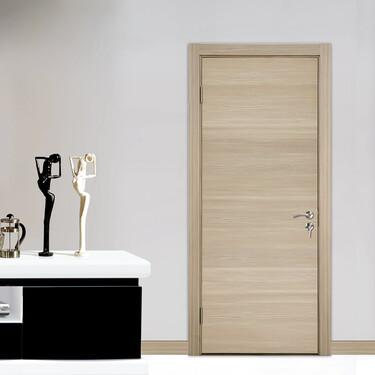door: (199, 55, 320, 353)
